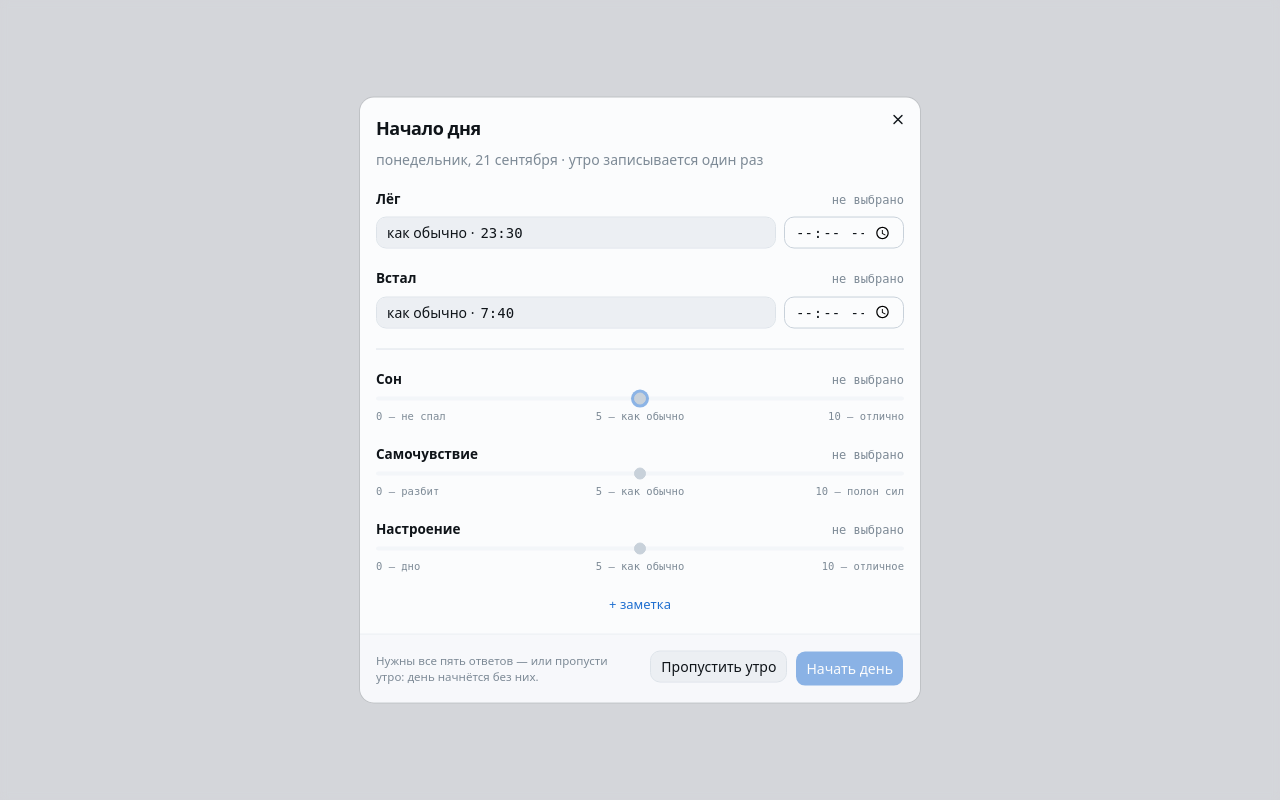
Test: окно начала дня › «Начать день» неактивна, пока нет всех пяти ответов
The width and height of the screenshot is (1280, 800).
Press Arrowright
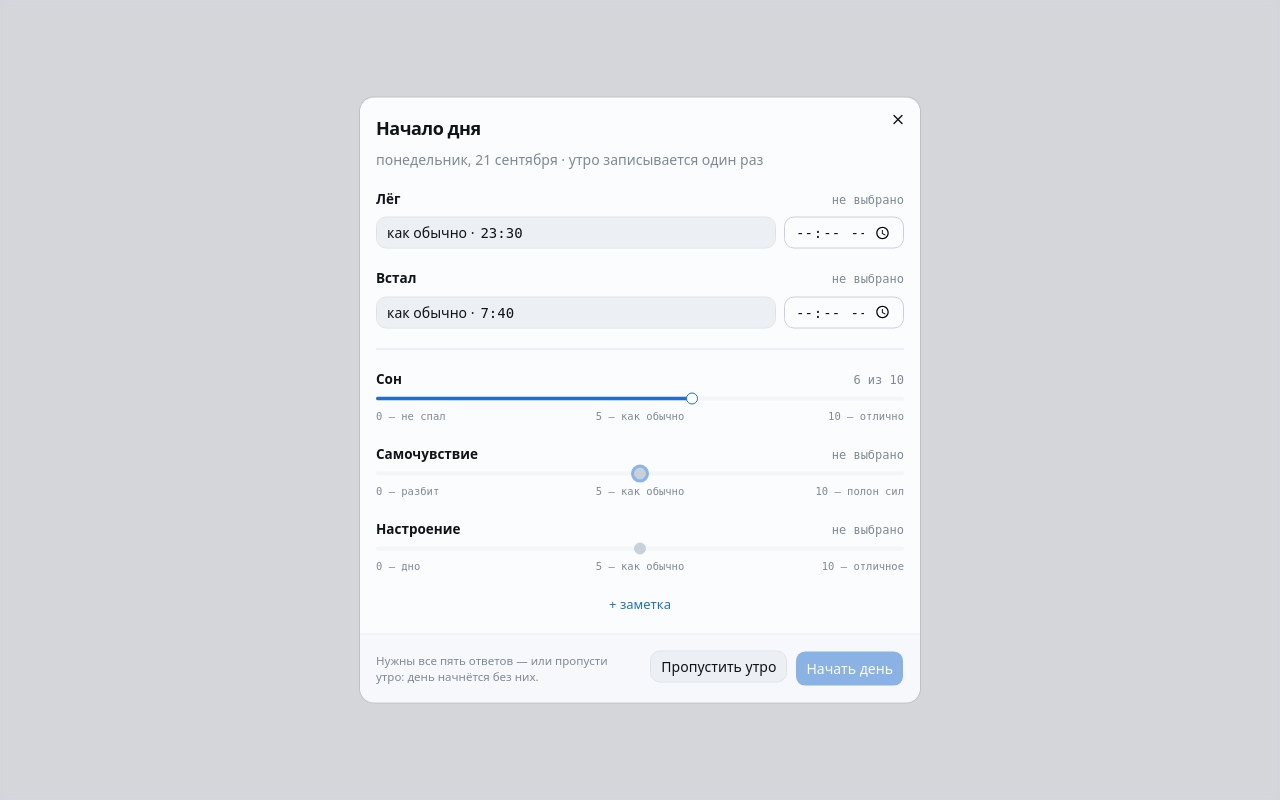
Press Arrowright
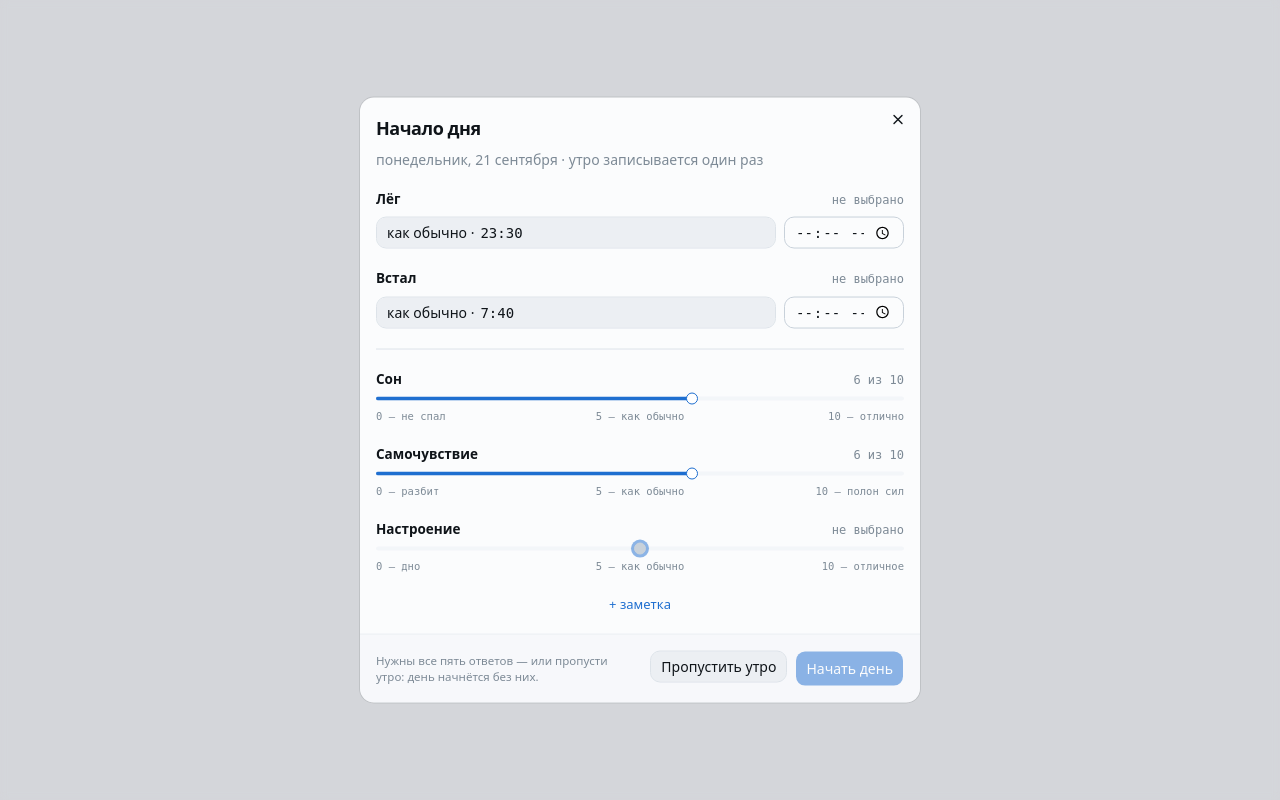
Press Arrowright
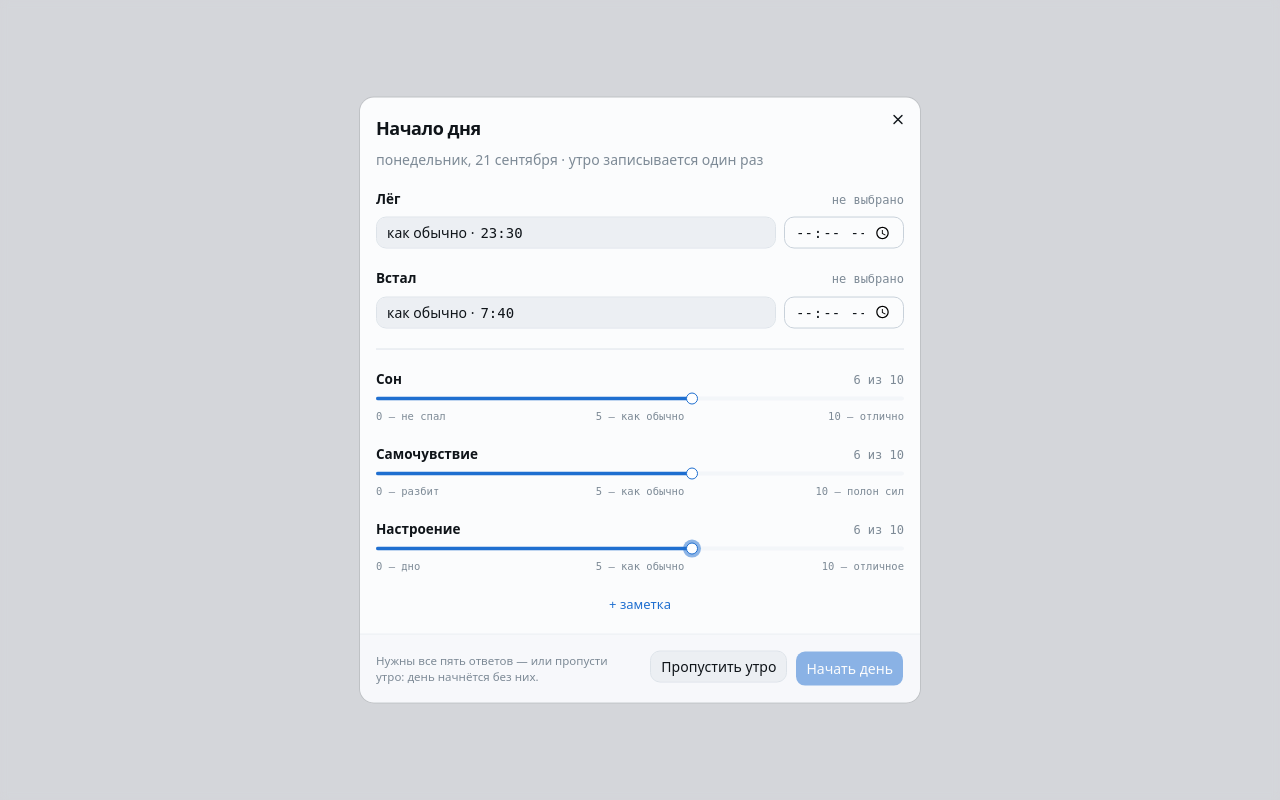
Expected: the button "Начать день" is disabled, x1=795 y1=650 x2=904 y2=686
Click the button "как обычно · 23:30" at coordinates (431, 232), box x1=376 y1=217 x2=776 y2=249
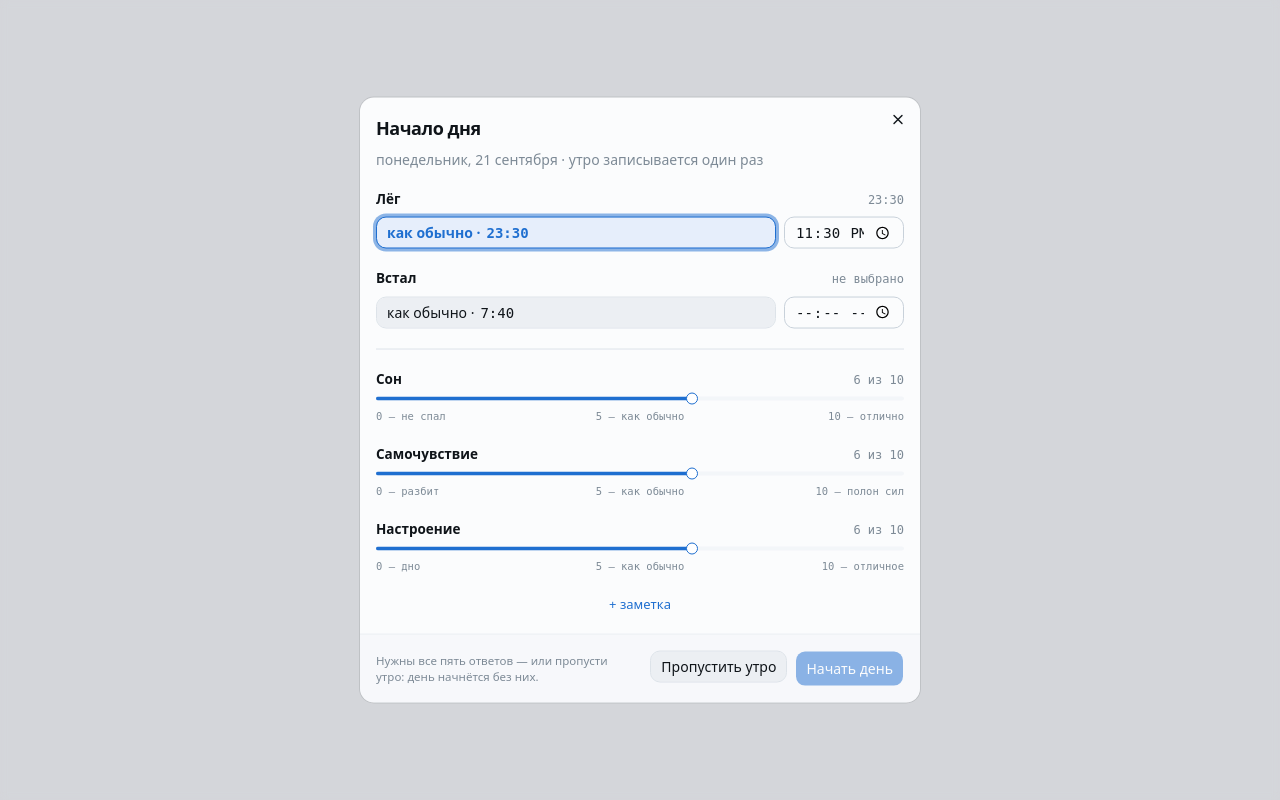
Expected: the button "Начать день" is disabled, x1=795 y1=650 x2=904 y2=686
Click the button "как обычно · 7:40" at coordinates (431, 312), box x1=376 y1=296 x2=776 y2=328
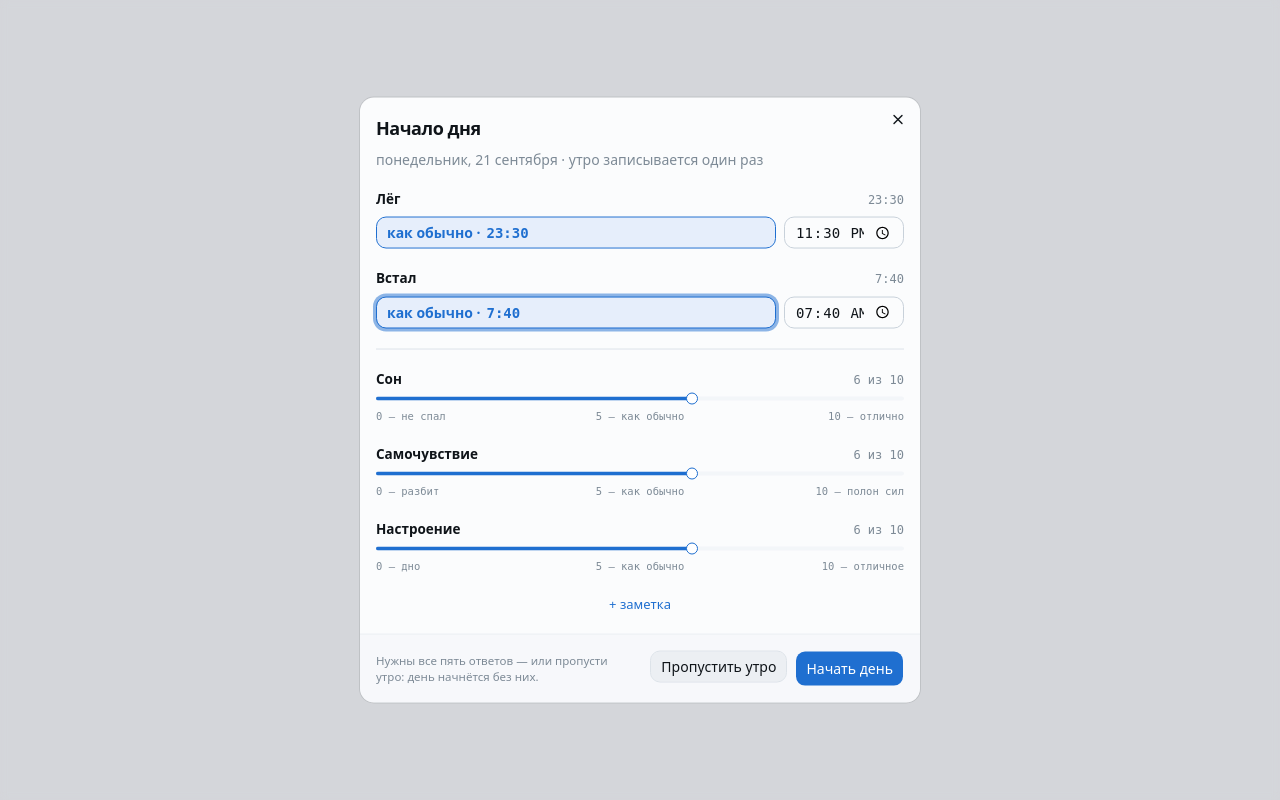
Now the button "Начать день" is enabled, box x1=795 y1=650 x2=904 y2=686
